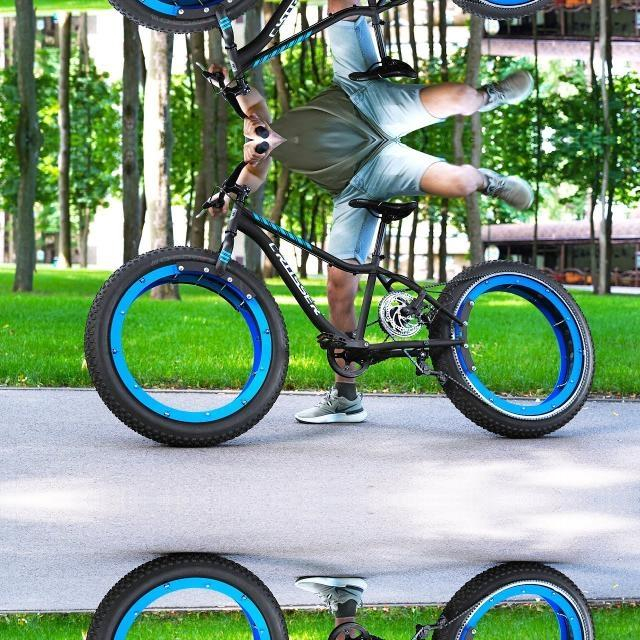obstacle: (105, 176, 609, 474), (105, 526, 609, 640), (105, 0, 609, 104)
